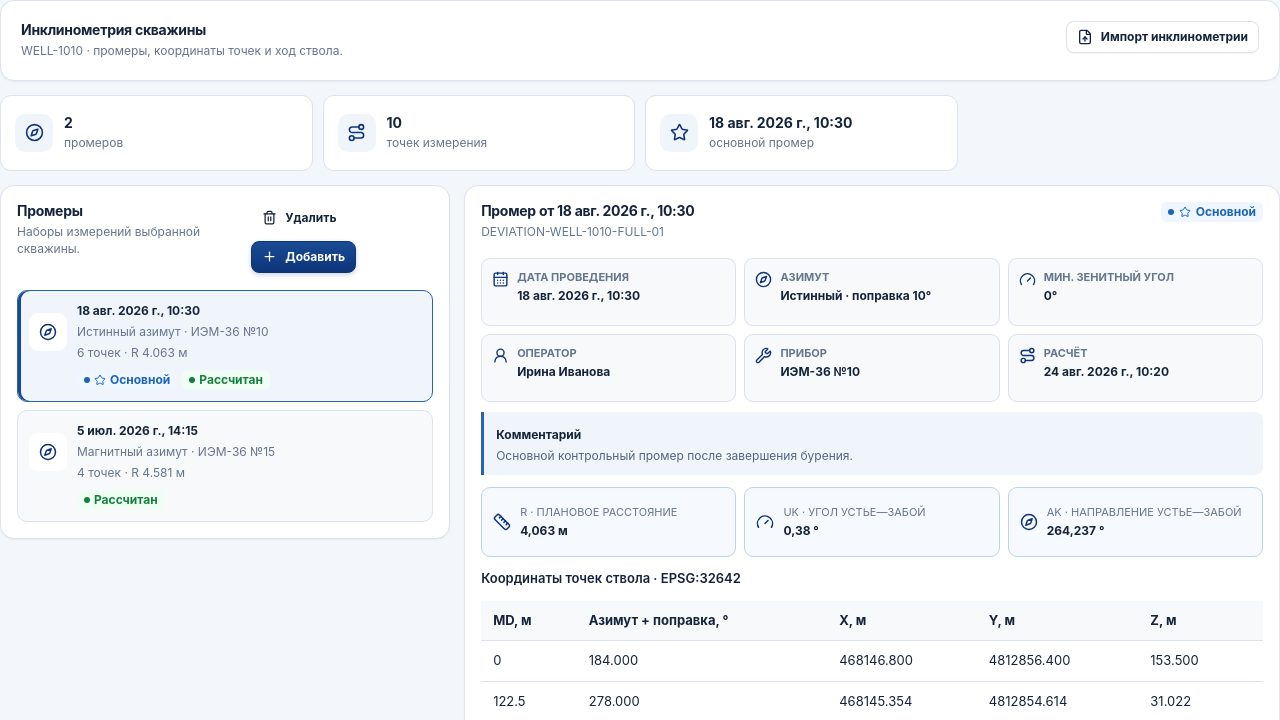
Test: BgdWellDeviationTab › allows an editor without administrative permission to choose the primary survey
expect the heading "Промеры" is shown: met, box [17,202,83,219]
Click the button "Магнитный азимут · ИЭМ-36 №15": (48, 452) [17,410,433,522]
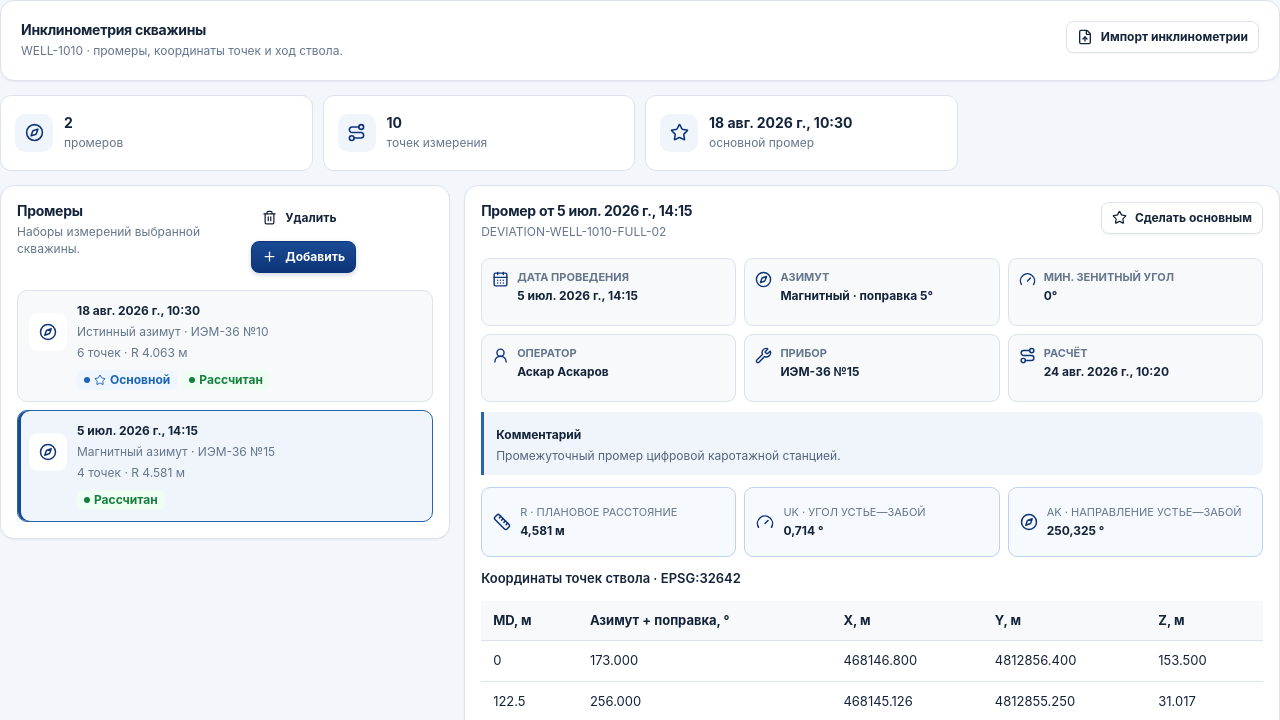
Click the button "Сделать основным": (1182, 218) [1101,202,1263,234]
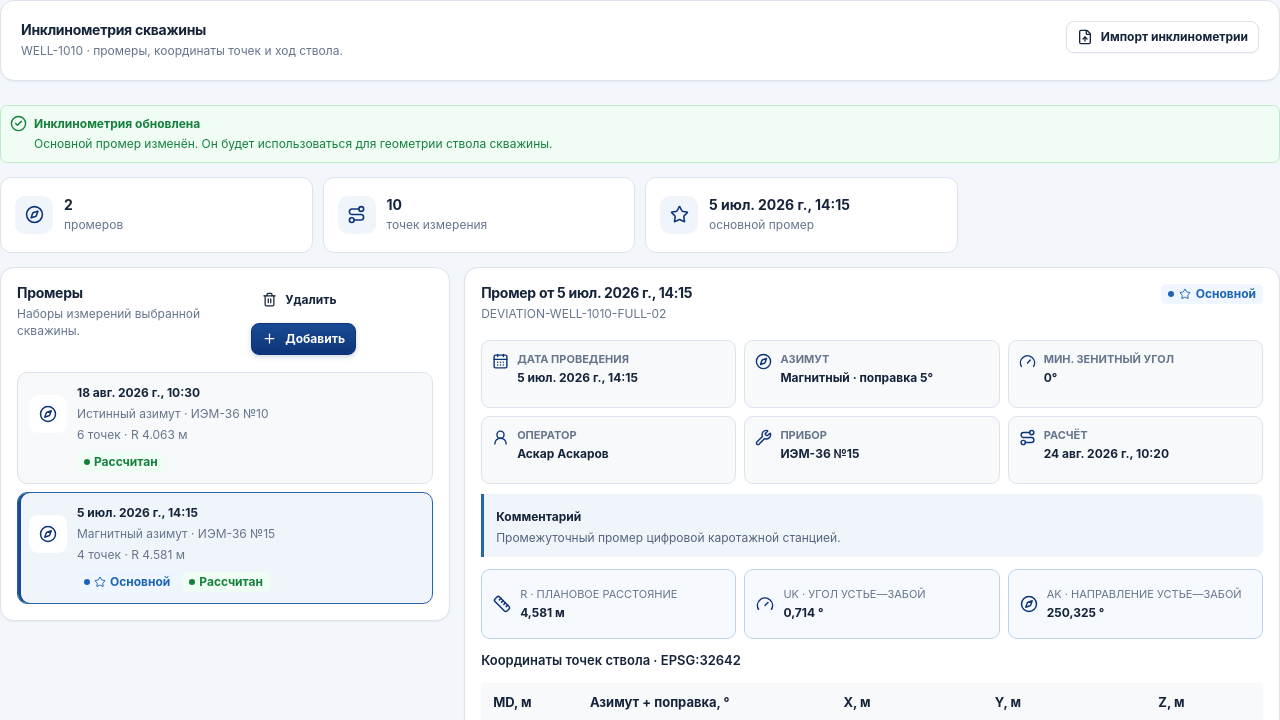
expect the text "Основной промер изменён" is shown: met, box [34,136,553,151]
expect the button "Сделать основным" is gone: met
Click the button with aria-label "Удалить выбранный промер": (299, 300) [251,284,347,316]
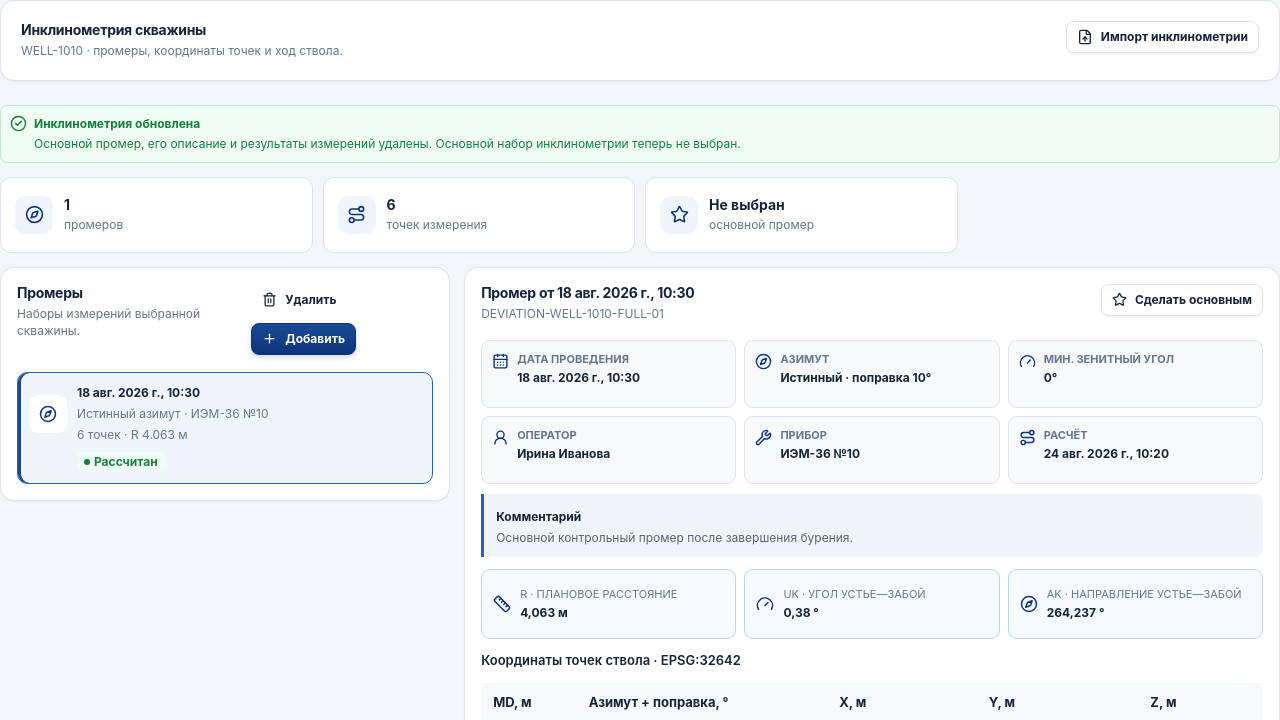
expect the text "Основной промер, его описание и результаты измерений удалены" is shown: met, box [34,136,741,151]
expect the text "Не выбран" is shown: met, box [709,196,785,213]
